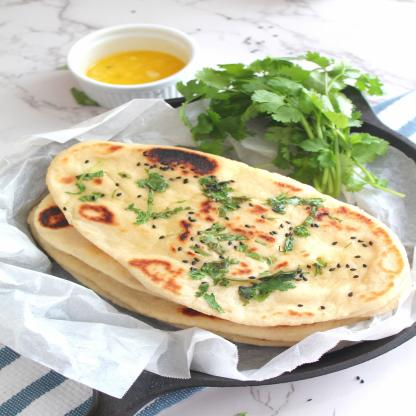naan: (46, 139, 413, 324), (37, 195, 368, 344)
